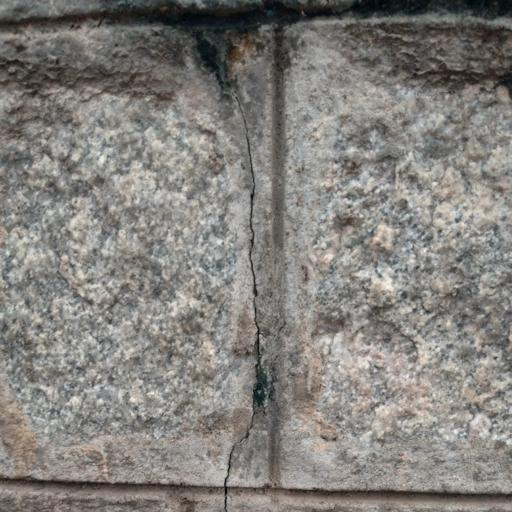minor_crack: (196, 50, 270, 512)
